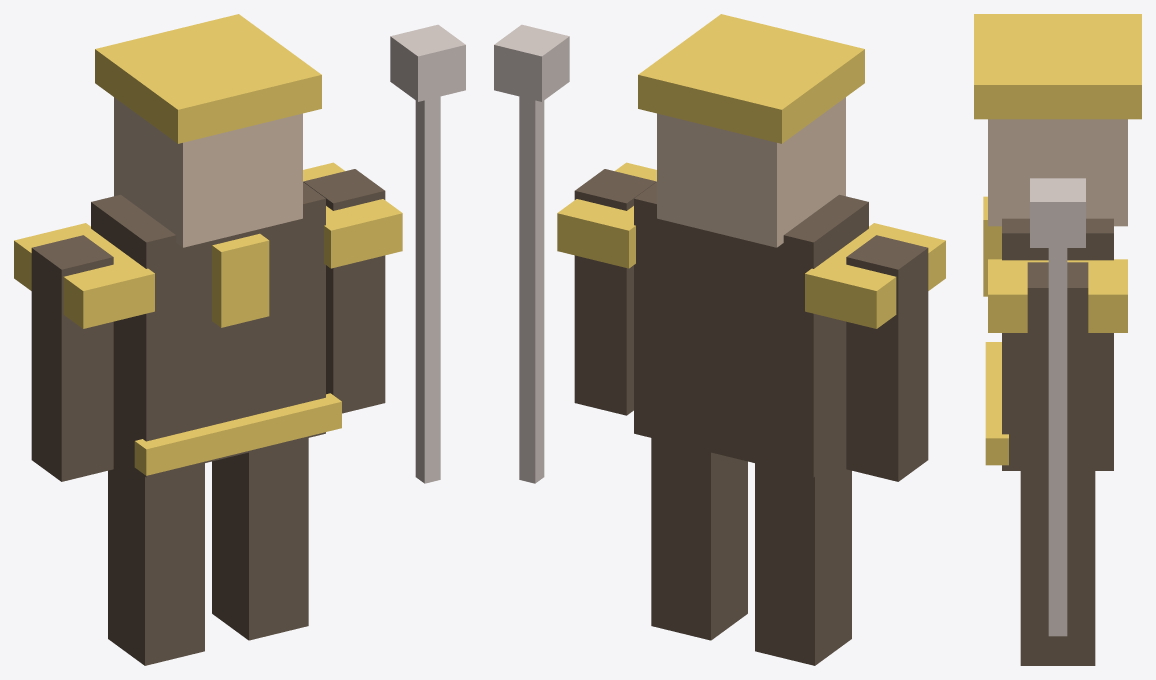
Rendered from 15_quill_whispercoil_runner_of_reality.glb.
The picture shows the model from 3 angles, left to right: view 1: azimuth 30°, elevation 25°; view 2: azimuth 150°, elevation 25°; view 3: azimuth 270°, elevation 25°; orthographic projection.
Parts seen in each view (by area): view 1: Quill Whispercoil, Runner of Reality; view 2: Quill Whispercoil, Runner of Reality; view 3: Quill Whispercoil, Runner of Reality.
Part boxes in pixels (box(x1,y1,x2,y2)): Quill Whispercoil, Runner of Reality: box(14, 14, 465, 665); Quill Whispercoil, Runner of Reality: box(494, 14, 945, 665); Quill Whispercoil, Runner of Reality: box(974, 14, 1141, 665).
Size of the model in its own units: 1.06 by 1.43 by 0.3767.
